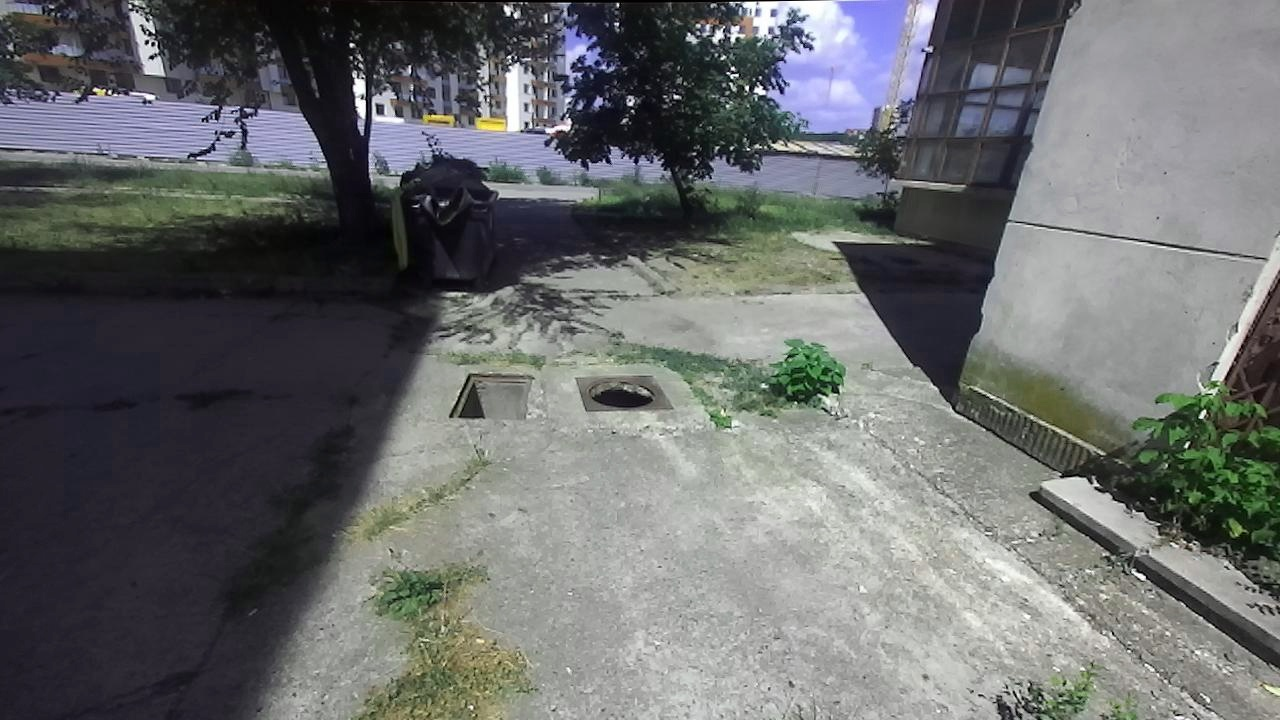drain: (443, 371, 532, 420), (582, 373, 661, 412)
